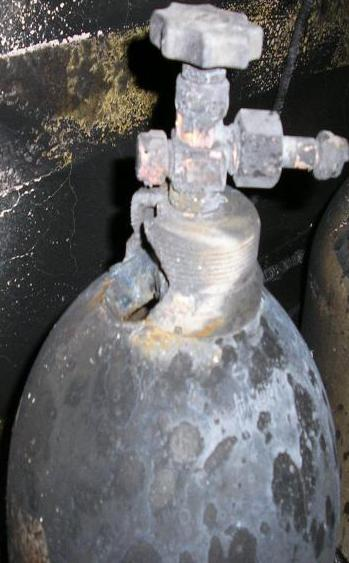cylinder: (1, 1, 349, 563)
